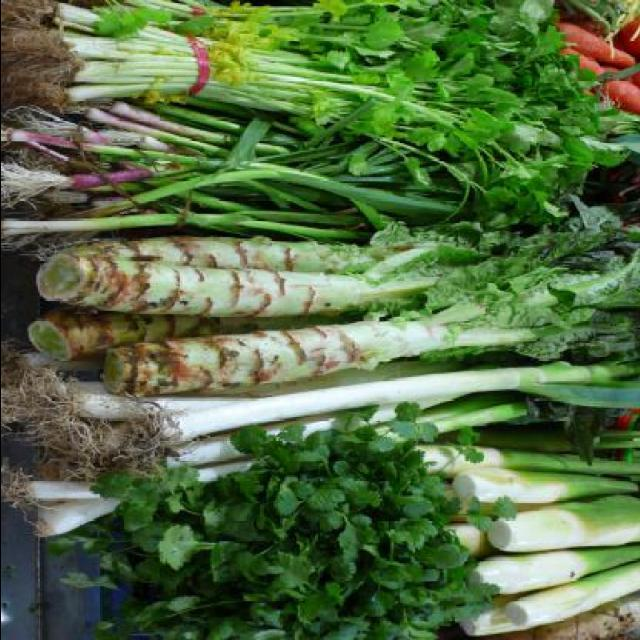Carrot: (553, 45, 639, 122)
